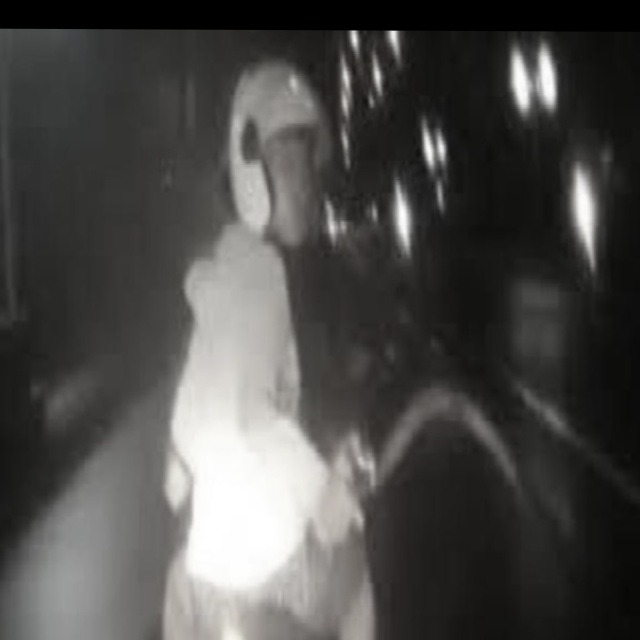Sharp-Object: (346, 326, 524, 605)
